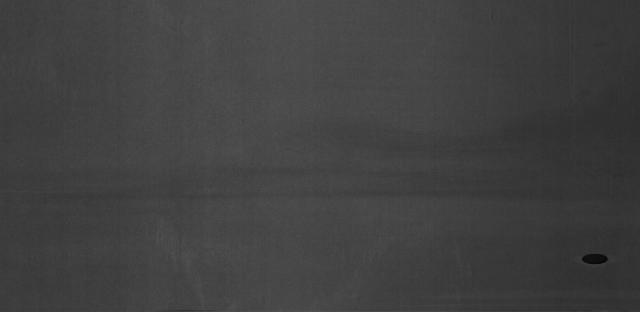punching_hole: (578, 251, 612, 268)
